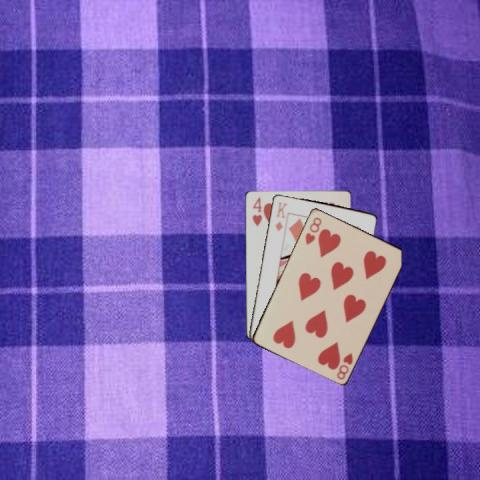4h: (250, 194, 262, 227)
8h: (302, 214, 323, 246), (333, 349, 354, 381)
Kd: (272, 198, 289, 232)
